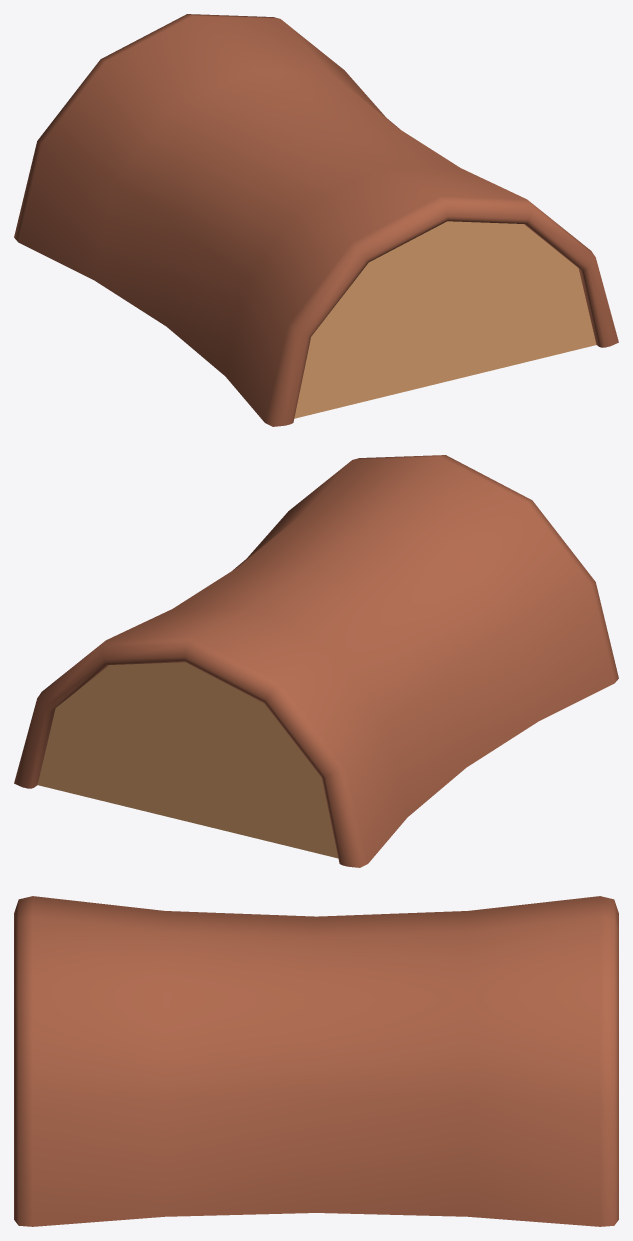
The model's file is Log_02.fbx.
3 renders of one model, top to bottom at view 1: azimuth 30°, elevation 25°; view 2: azimuth 150°, elevation 25°; view 3: azimuth 270°, elevation 25°, orthographic. The views are drawn at different scales.
Visible parts, largest first — view 1: Log_02; view 2: Log_02; view 3: Log_02.
Boxes of the visible parts, box(x1,y1,x2,y2) form: Log_02: box(14, 14, 618, 426); Log_02: box(14, 455, 618, 867); Log_02: box(14, 896, 618, 1226).
Bounding box in the file's own units: 406 × 204 × 528.
